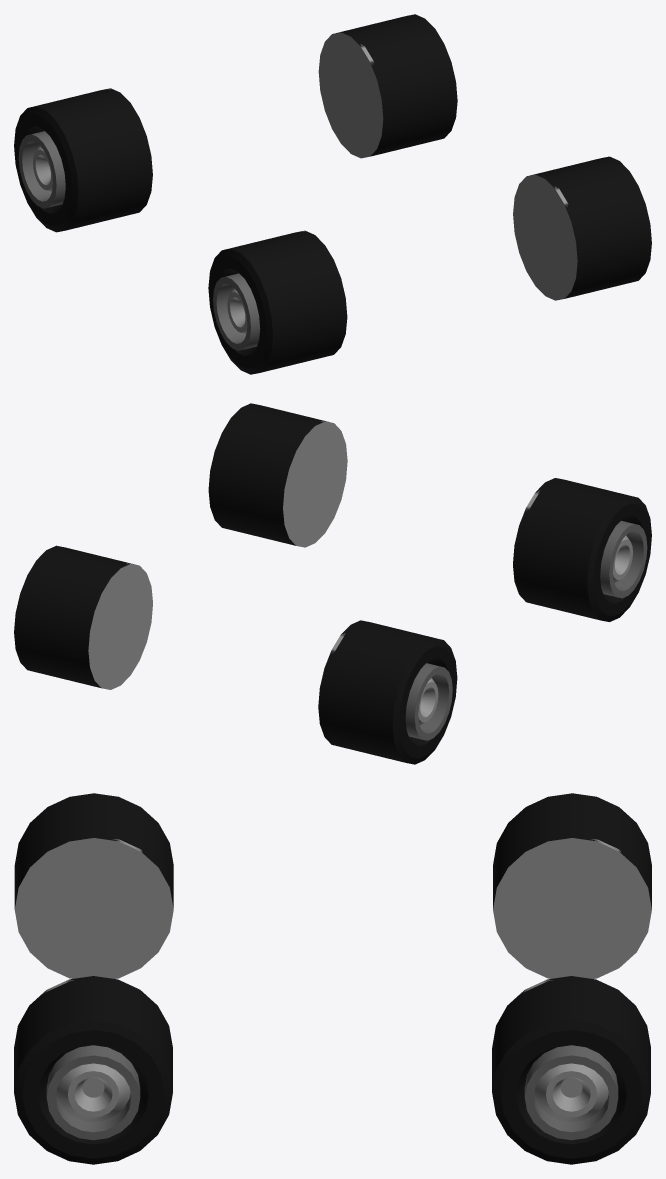
The model's file is BOXY-WHEELS-UEpPNXpX.glb.
3 renders of one model, top to bottom at view 1: azimuth 30°, elevation 25°; view 2: azimuth 150°, elevation 25°; view 3: azimuth 270°, elevation 25°, orthographic. The views are drawn at different scales.
Bounding box in the file's own units: 1.76 × 0.4982 × 2.
1 material, 1 textured.
